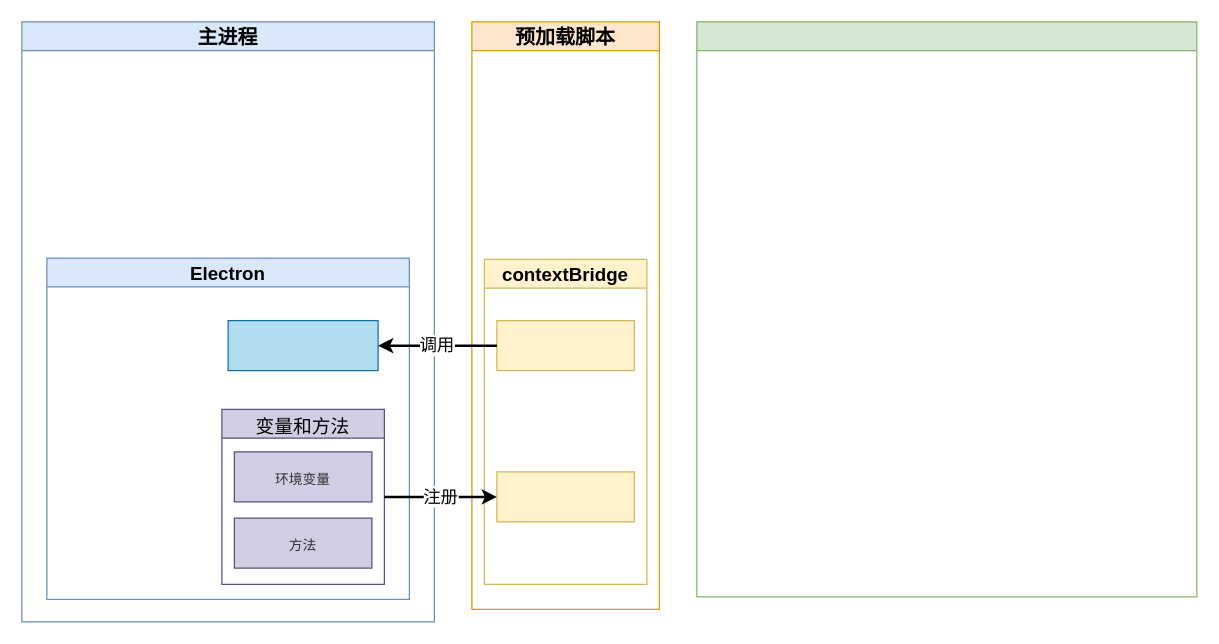
The diagram is 1219 pixels wide and 644 high, and some of its shapes have lost their labels. The centre of each missing label's shape, as x and y in pixels:
exposeInMainWorld: (x=565, y=496)
ipcMain: (x=302, y=345)
ipcRender: (x=565, y=345)
渲染进程: (x=946, y=309)
